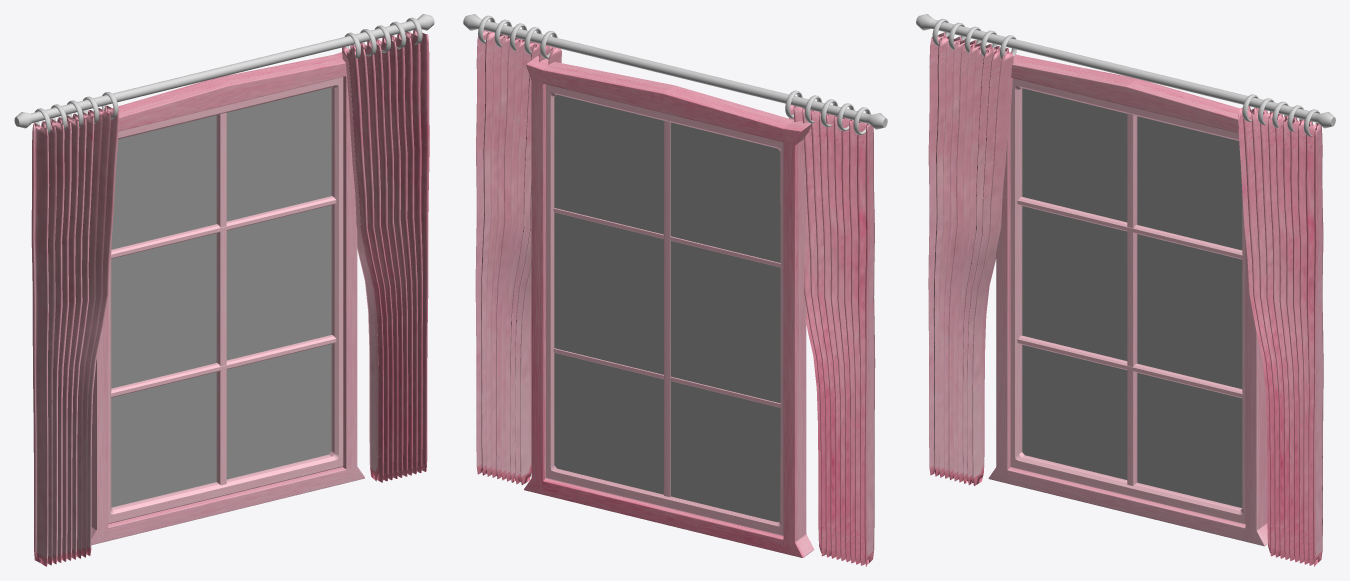
File: window.fbx
3 views of the same model, side by side, from view 1: azimuth 30°, elevation 25°; view 2: azimuth 150°, elevation 25°; view 3: azimuth 330°, elevation 25° (orthographic).
Parts seen in each view (by area): view 1: pPlane2, pasted__pCube1, pasted__pCube2, pCube1, pCube5, pasted__pCylinder1, pCube4, pCube3, pCube2; view 2: pPlane2, pasted__pCube1, pCube1, pasted__pCube2, pCube5, pasted__pCylinder1, pCube4, pCube2, pCube3; view 3: pPlane2, pasted__pCube2, pasted__pCube1, pCube1, pCube5, pasted__pCylinder1, pCube4, pCube2, pCube3.
Part boxes in pixels (x1,y1,x2,y2): pPlane2: (111,87,331,507); pasted__pCube1: (31,105,119,566); pasted__pCube2: (342,29,429,482); pCube1: (91,49,364,545); pCube5: (108,77,343,523); pasted__pCylinder1: (14,14,434,128); pCube4: (216,112,226,485); pCube3: (111,335,336,397); pCube2: (111,196,336,258); pPlane2: (554,95,780,522); pasted__pCube1: (789,105,875,566); pCube1: (524,56,814,557); pasted__pCube2: (475,30,561,484); pCube5: (546,84,783,535); pasted__pCylinder1: (463,14,887,129); pCube4: (664,120,670,497); pCube2: (553,208,780,267); pCube3: (553,348,780,407); pPlane2: (1022,88,1242,507); pasted__pCube2: (1238,106,1323,566); pasted__pCube1: (928,32,1013,485); pCube1: (988,52,1267,546); pCube5: (1010,78,1245,524); pasted__pCylinder1: (916,14,1335,128); pCube4: (1127,113,1137,485); pCube2: (1017,196,1242,259); pCube3: (1017,335,1242,398).
Size of the model in its own units: 7.91 by 8.22 by 0.7029.
Materials: 9 (2 with a texture image).
